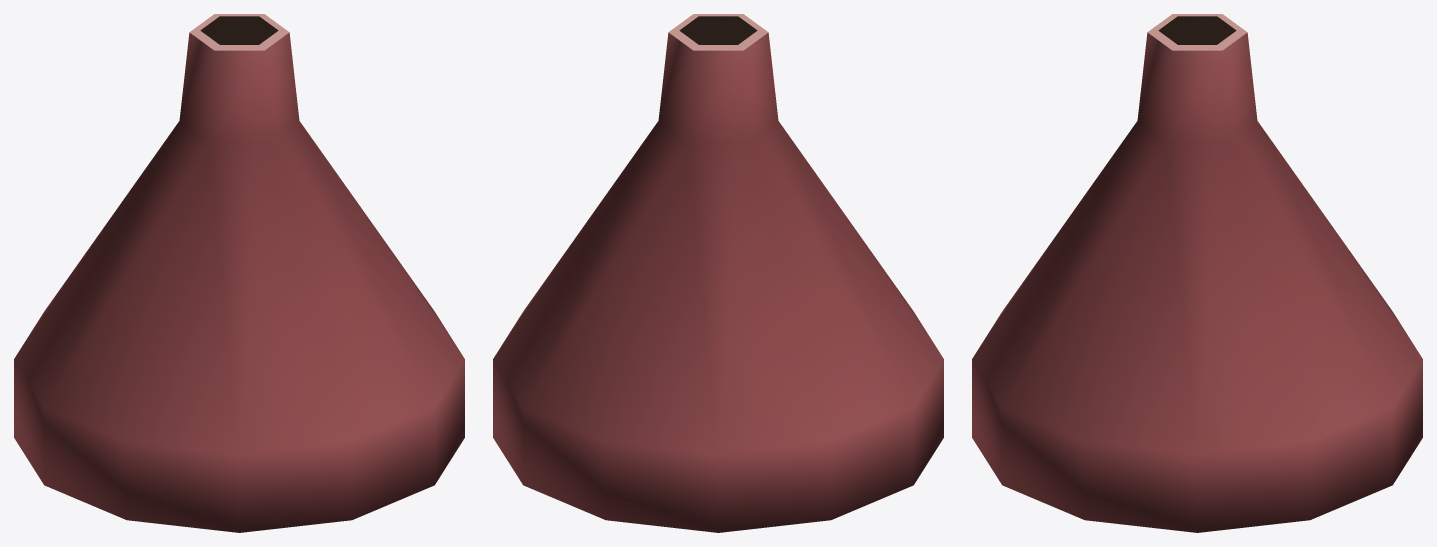
The model's file is TSP_Bowl_02B.fbx.
3 views of the same model, side by side, from view 1: azimuth 30°, elevation 25°; view 2: azimuth 150°, elevation 25°; view 3: azimuth 270°, elevation 25° (orthographic).
Visible parts, largest first — view 1: TSP_Bowl_02B; view 2: TSP_Bowl_02B; view 3: TSP_Bowl_02B.
Boxes of the visible parts, x1,y1,x2,y2 form: TSP_Bowl_02B: (14,14,464,532); TSP_Bowl_02B: (493,14,943,532); TSP_Bowl_02B: (972,14,1422,532).
Size of the model in its own units: 0.5044 by 0.5788 by 0.5044.
